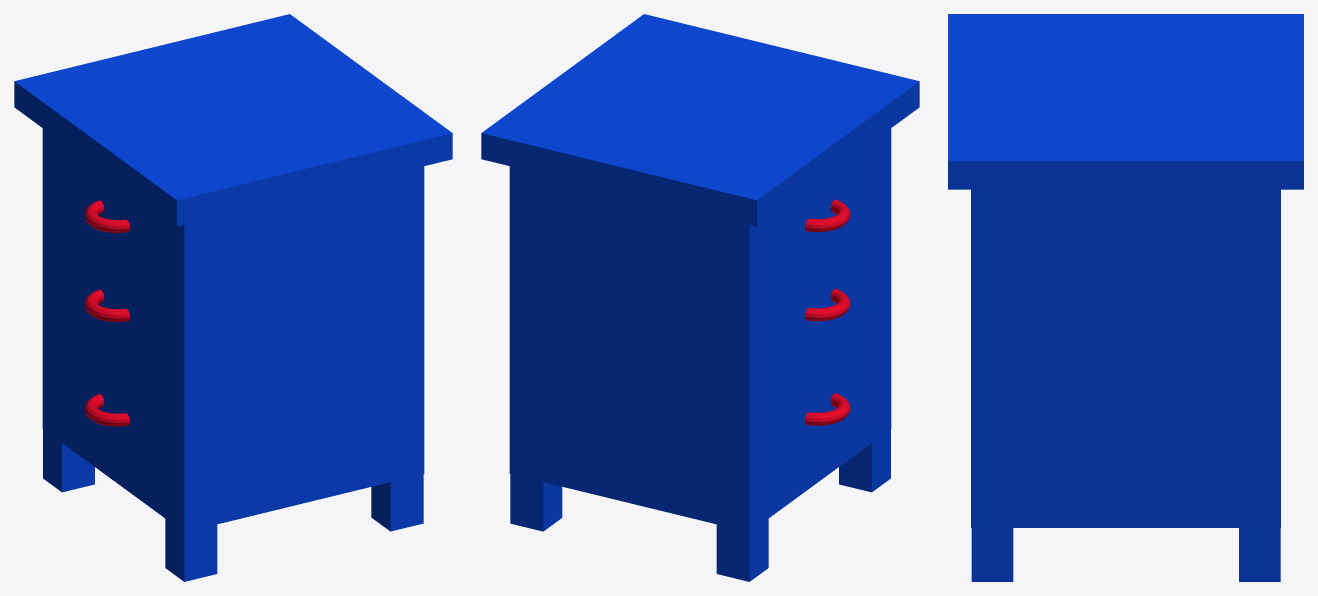
The model's file is Bedside_Table.fbx.
The picture shows the model from 3 angles, left to right: view 1: azimuth 30°, elevation 25°; view 2: azimuth 150°, elevation 25°; view 3: azimuth 270°, elevation 25°; orthographic projection. The views are drawn at different scales.
Visible parts, largest first — view 1: Bedside_Table; view 2: Bedside_Table; view 3: Bedside_Table.
Part boxes in pixels (x1,y1,x2,y2): Bedside_Table: (14, 14, 452, 581); Bedside_Table: (481, 14, 919, 581); Bedside_Table: (948, 14, 1303, 581).
Size of the model in its own units: 293 by 390 by 292.
